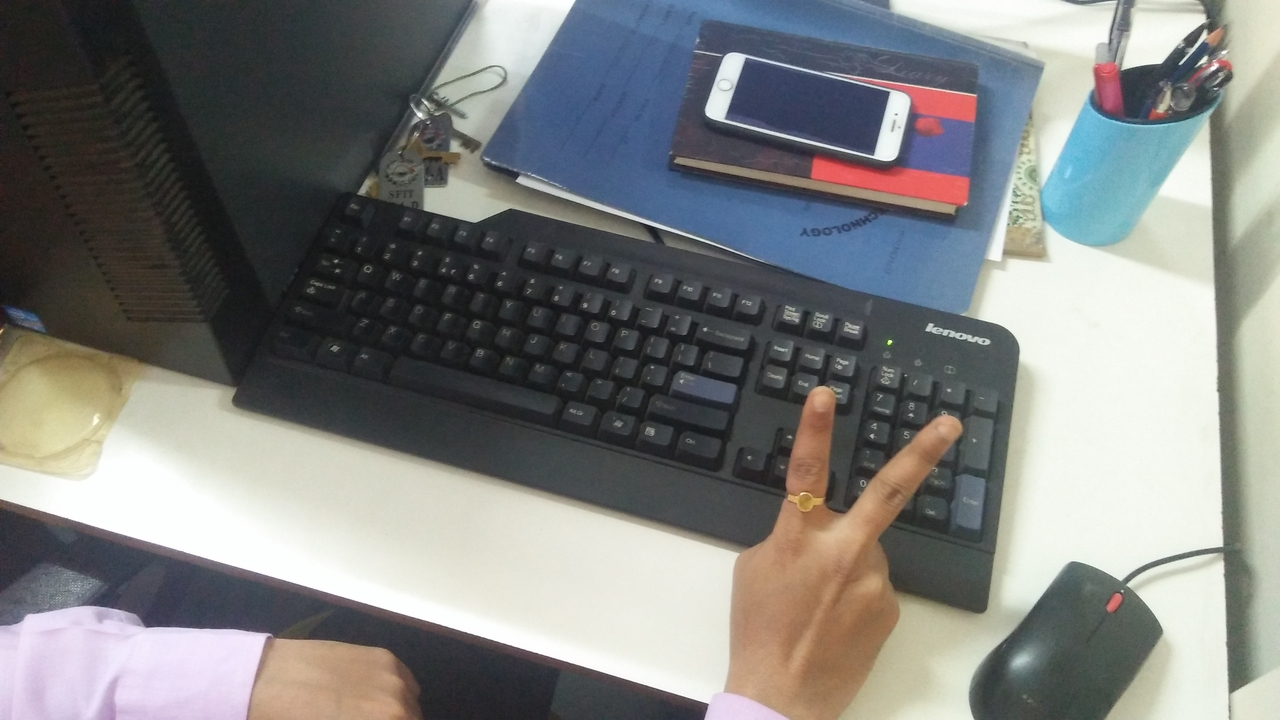fingertip: (904, 412, 968, 460), (798, 386, 840, 430)
